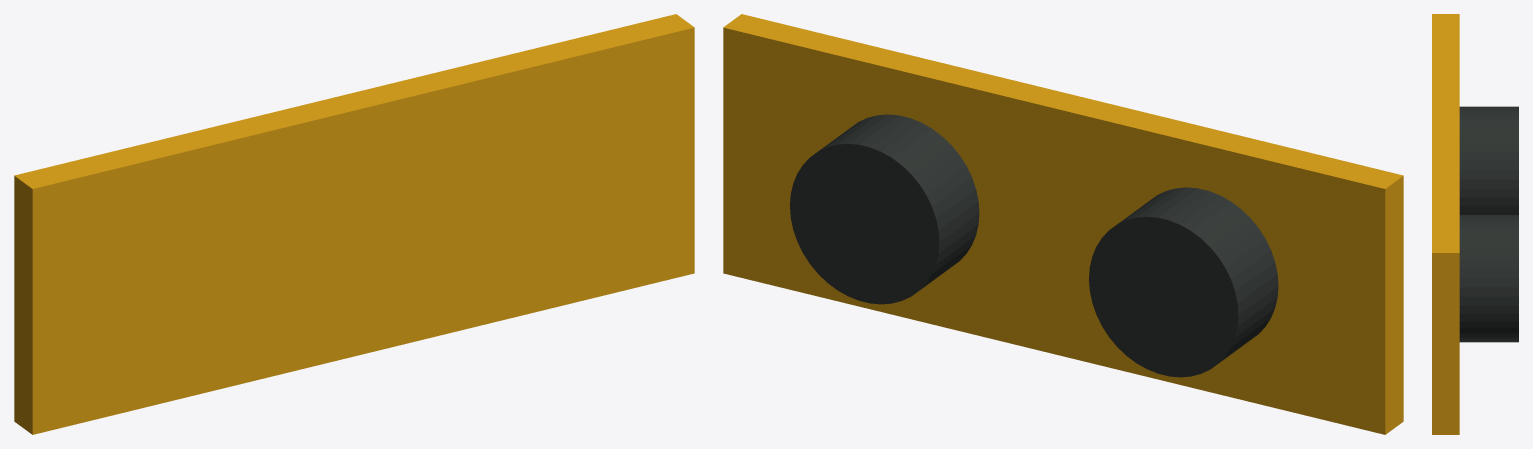
The model's file is shuttle_link.obj.
3 views of the same model, side by side, from view 1: azimuth 30°, elevation 25°; view 2: azimuth 150°, elevation 25°; view 3: azimuth 270°, elevation 25° (orthographic). The views are drawn at different scales.
Visible parts, largest first — view 1: plate_0; view 2: plate_0, duckbill_station_2, auger_station_1; view 3: plate_0, duckbill_station_2, auger_station_1.
Boxes of the visible parts, bbox=[...] form: plate_0: bbox=[14, 14, 694, 434]; plate_0: bbox=[723, 14, 1403, 434]; duckbill_station_2: bbox=[790, 114, 979, 304]; auger_station_1: bbox=[1089, 187, 1278, 377]; plate_0: bbox=[1432, 14, 1459, 434]; duckbill_station_2: bbox=[1459, 214, 1518, 342]; auger_station_1: bbox=[1459, 106, 1518, 214].
Bounding box in the file's own units: 0.62 × 0.22 × 0.095.
